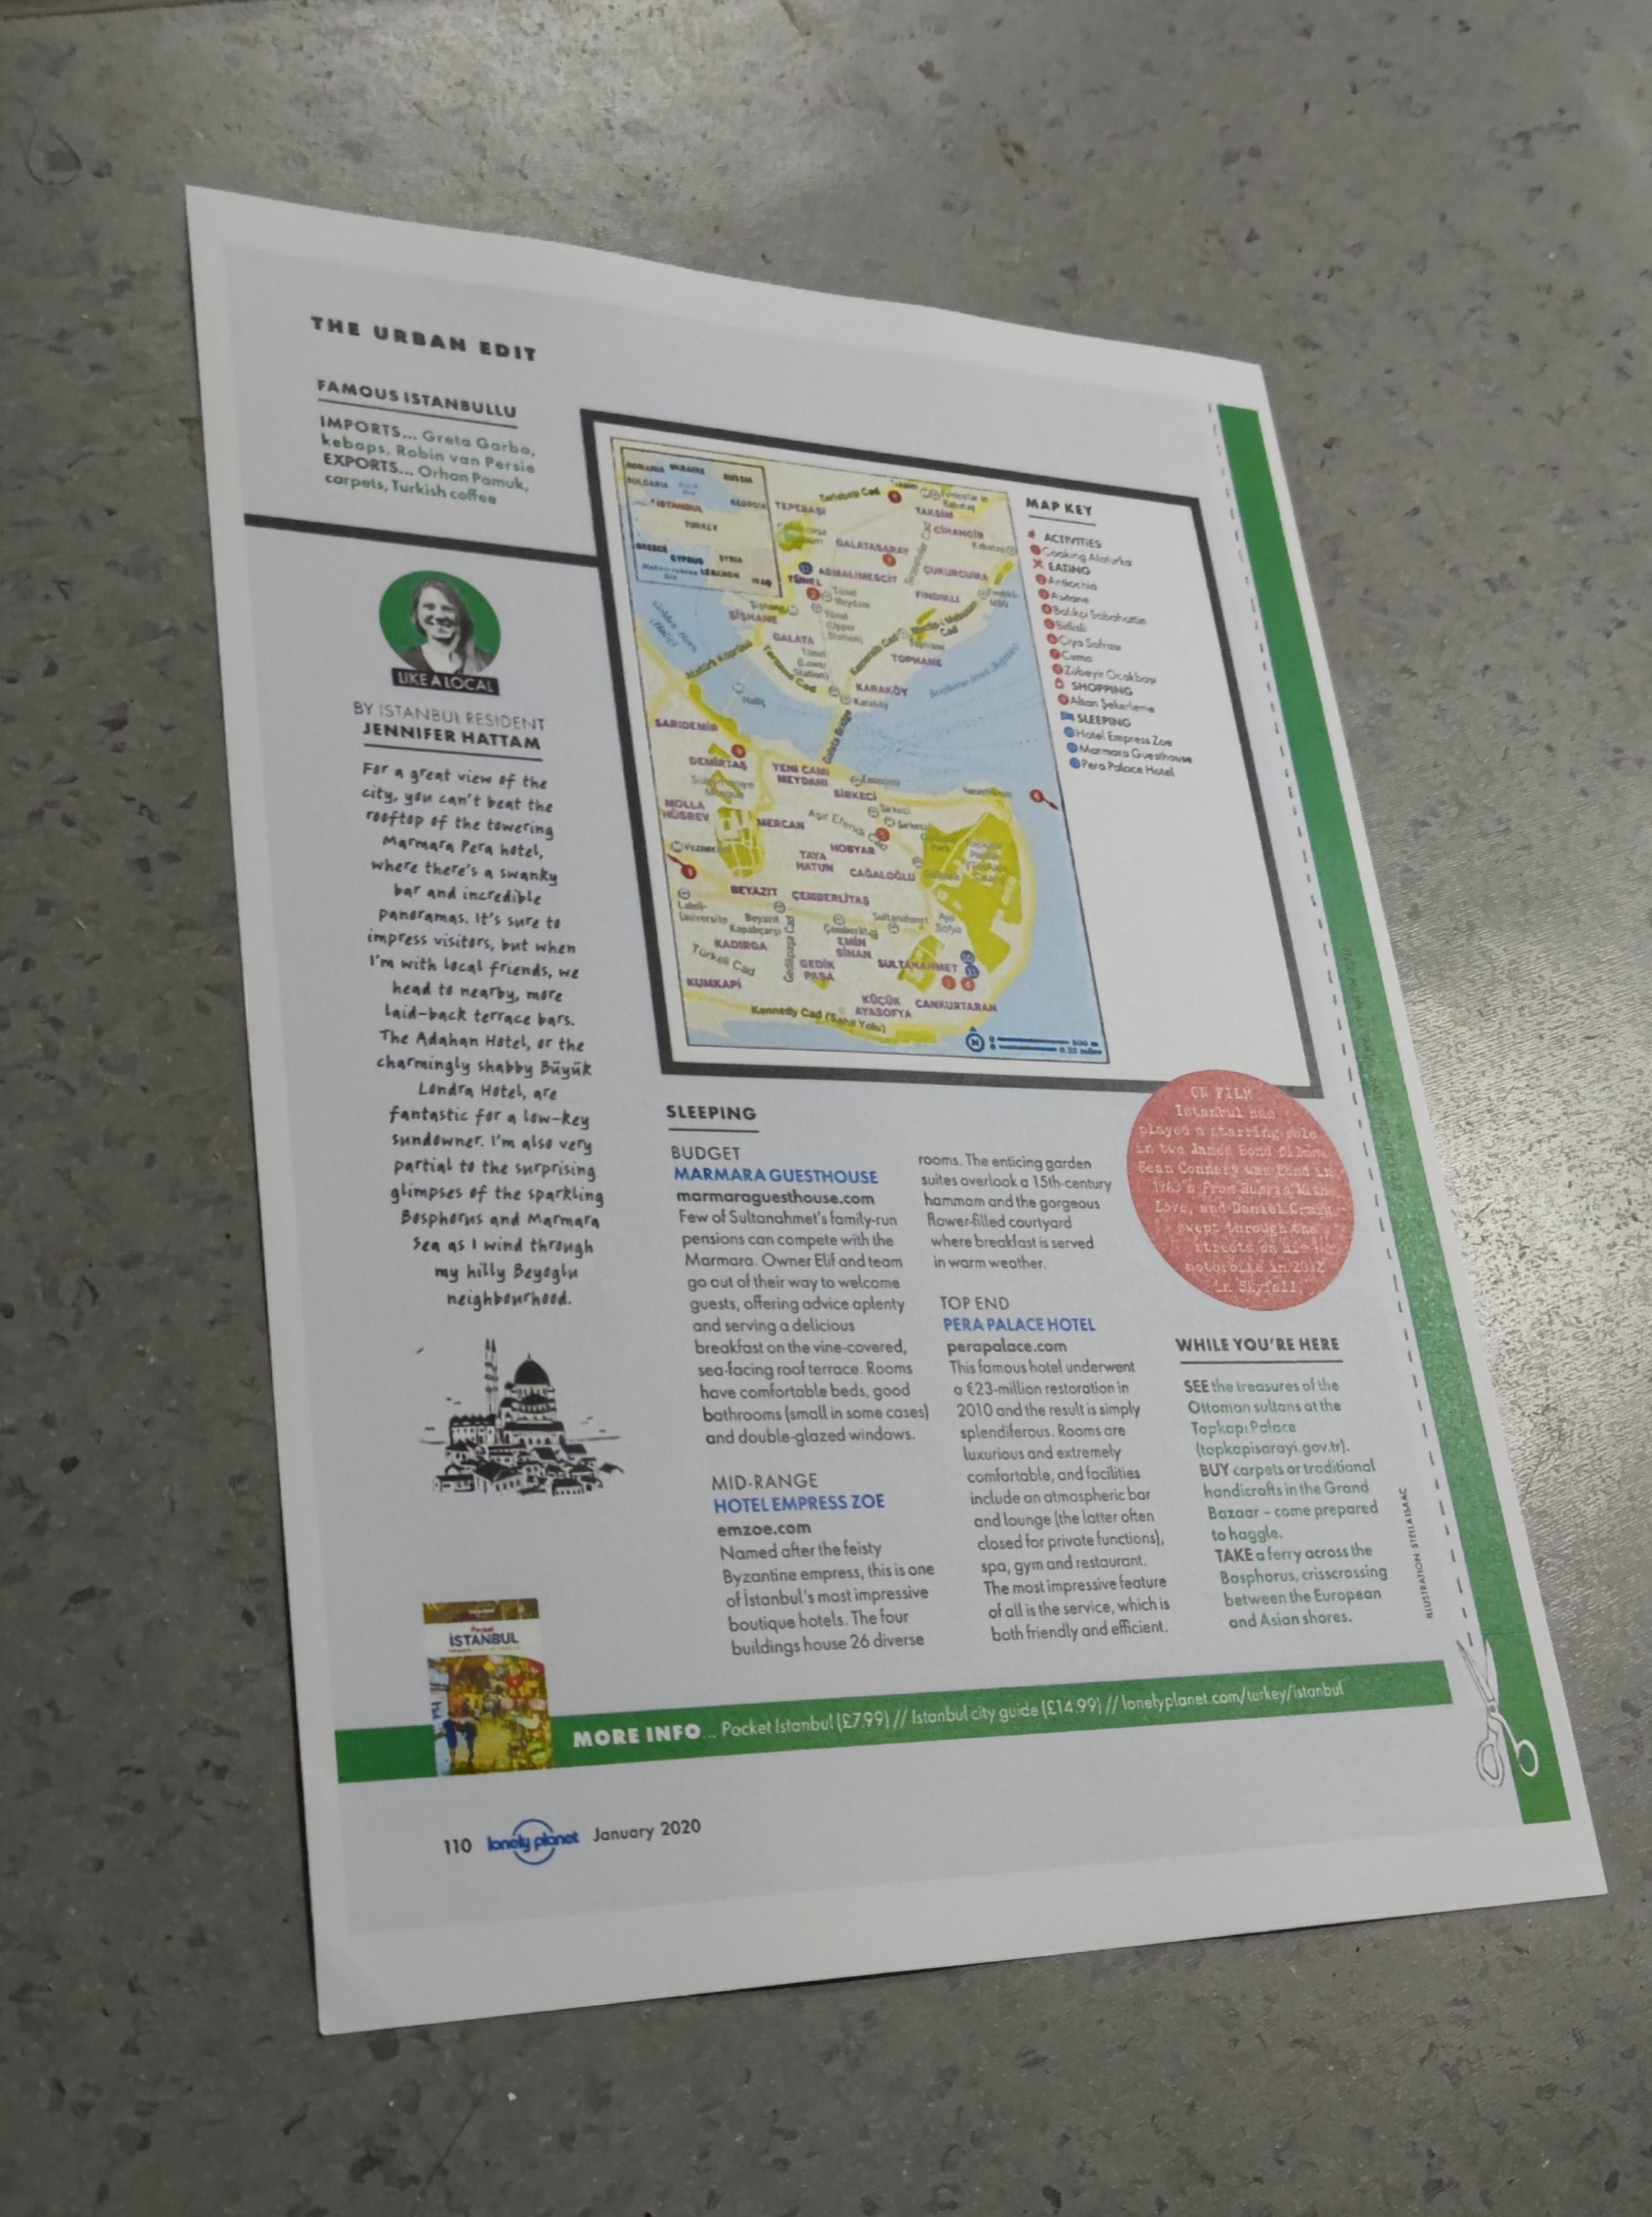paper: (50, 68, 1633, 2031)
